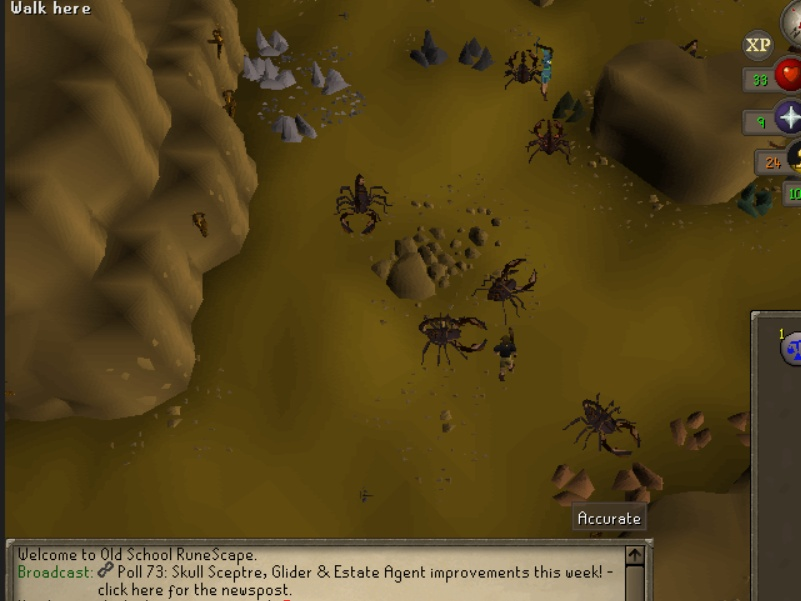adamant: (738, 176, 777, 222)
coal: (548, 84, 591, 129)
copper: (547, 460, 598, 516), (615, 454, 666, 510), (665, 404, 716, 460)
tin: (271, 108, 319, 144), (306, 59, 354, 95), (252, 25, 293, 60), (262, 57, 297, 90), (240, 54, 266, 80)
